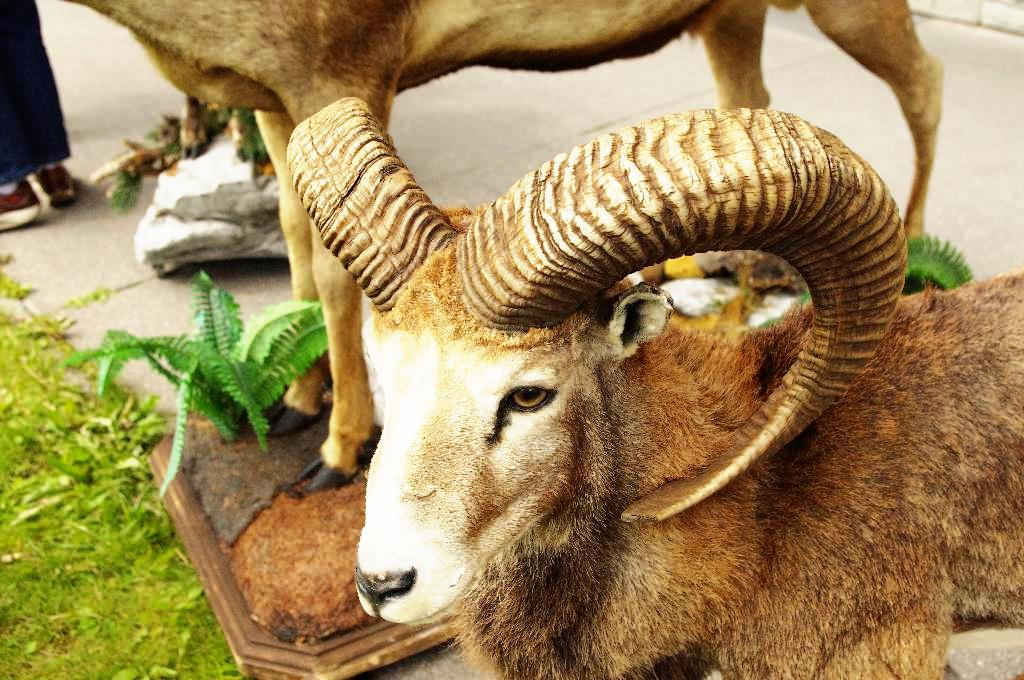Sheep: (290, 98, 1022, 678)
